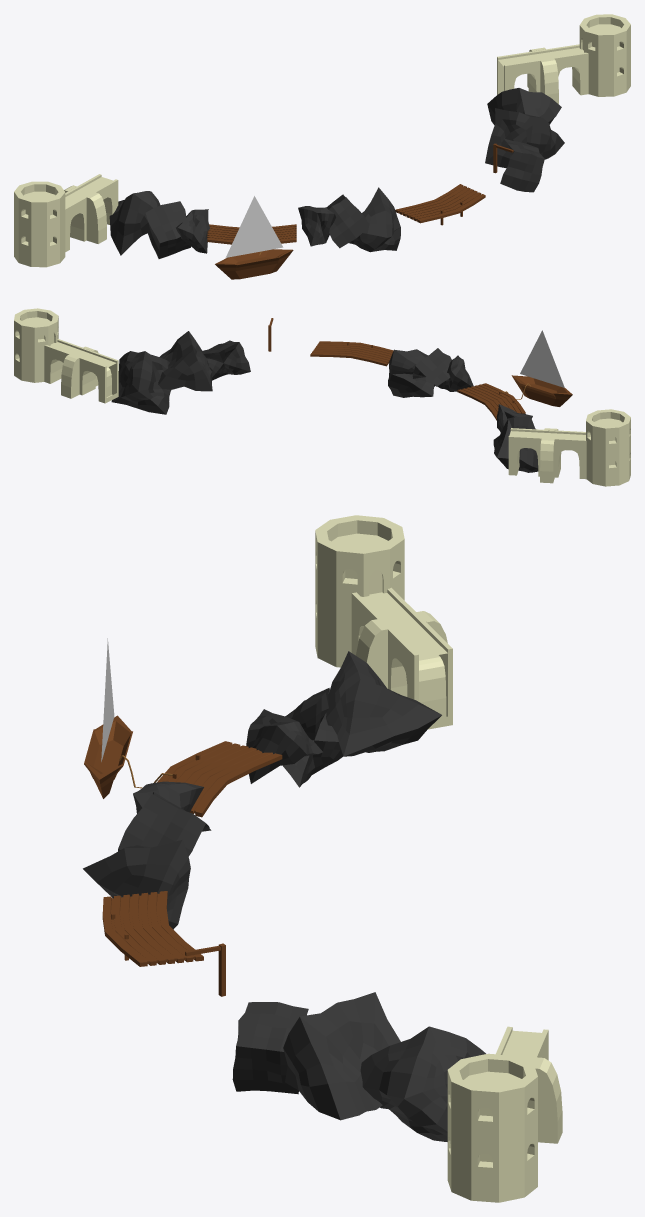
File: ExtrasTorre 1.fbx
3 views of the same model, one above another, from view 1: azimuth 30°, elevation 25°; view 2: azimuth 150°, elevation 25°; view 3: azimuth 270°, elevation 25° (orthographic). The views are drawn at different scales.
Visible parts, largest first — view 1: Cylinder.004, Cylinder, Cube.035, rock.001, Cube.195, rock.005, rock, rock.006, Plane.008, rock.008, Cube.203, rock.002 (+7 smaller); view 2: Cylinder.004, rock.002, Cube.035, Cylinder, Cube.195, rock.001, rock, Cube.203, rock.008, rock.005, Plane.008, Cube.006 (+6 smaller); view 3: Cylinder, rock.001, Cylinder.004, rock.002, Cube.195, rock.005, rock, rock.008, Cube.203, Cube.197, rock.003, rock.007 (+6 smaller).
Part boxes in pixels (left/top/right/bottom): Cylinder.004: left=14, top=181, right=65, bottom=267; Cylinder: left=579, top=14, right=630, bottom=96; Cube.035: left=497, top=44, right=588, bottom=95; rock.001: left=485, top=108, right=564, bottom=168; Cube.195: left=65, top=174, right=118, bottom=251; rock.005: left=109, top=191, right=160, bottom=255; rock: left=349, top=187, right=400, bottom=252; rock.006: left=145, top=201, right=190, bottom=258; Plane.008: left=225, top=196, right=283, bottom=257; rock.008: left=500, top=138, right=544, bottom=192; Cube.203: left=395, top=184, right=485, bottom=223; rock.002: left=487, top=88, right=561, bottom=125; Cylinder.004: left=586, top=409, right=630, bottom=486; rock.002: left=111, top=351, right=171, bottom=414; Cube.035: left=44, top=339, right=118, bottom=403; Cylinder: left=14, top=308, right=58, bottom=382; Cube.195: left=508, top=428, right=586, bottom=479; rock.001: left=158, top=331, right=212, bottom=391; rock: left=388, top=349, right=435, bottom=397; Cube.203: left=310, top=341, right=393, bottom=366; rock.008: left=202, top=340, right=250, bottom=380; rock.005: left=493, top=416, right=538, bottom=472; Plane.008: left=520, top=330, right=564, bottom=387; Cube.006: left=511, top=375, right=572, bottom=406; Cylinder: left=447, top=1054, right=537, bottom=1202; rock.001: left=283, top=992, right=400, bottom=1120; Cylinder.004: left=315, top=515, right=404, bottom=667; rock.002: left=360, top=1026, right=485, bottom=1141; Cube.195: left=351, top=587, right=452, bottom=729; rock.005: left=326, top=651, right=441, bottom=756; rock: left=83, top=840, right=190, bottom=929; rock.008: left=232, top=1002, right=308, bottom=1094; Cube.203: left=102, top=891, right=203, bottom=966; Cube.197: left=157, top=741, right=282, bottom=817; rock.003: left=118, top=792, right=211, bottom=856; rock.007: left=246, top=709, right=322, bottom=783.
Bounding box in the file's own units: 34421 × 5739 × 12368.
